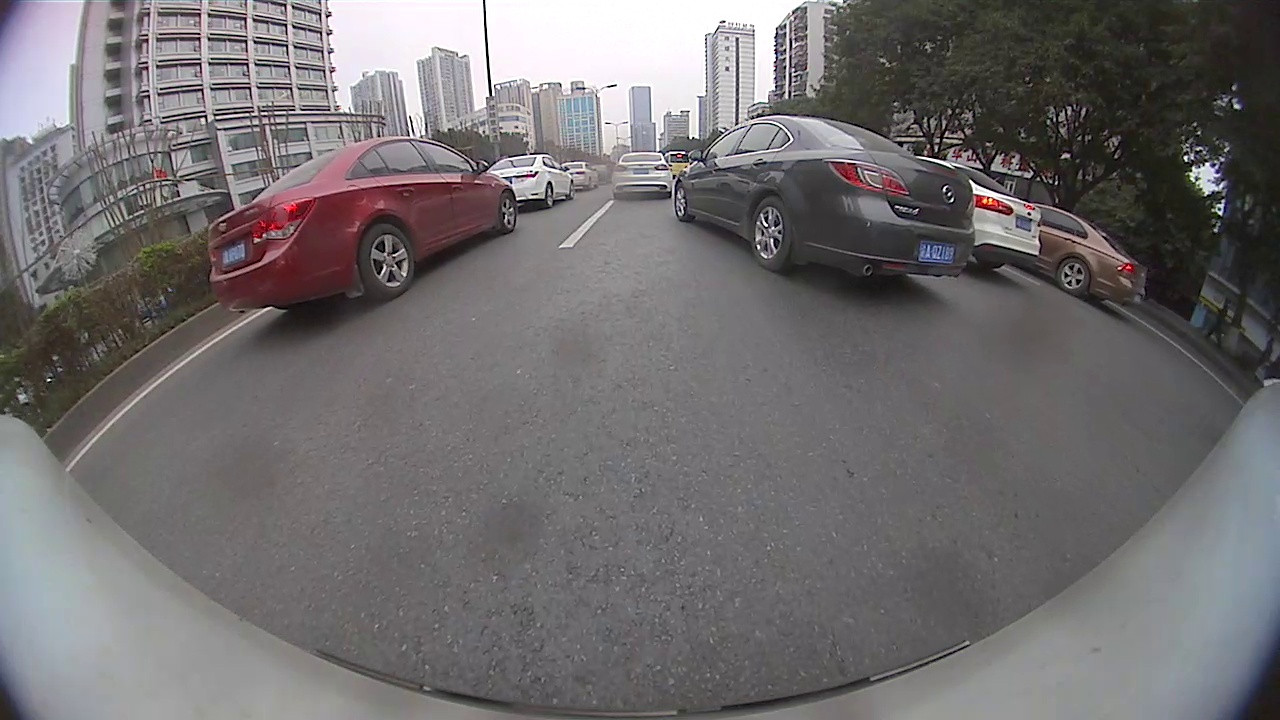car: (201, 134, 522, 312), (673, 110, 978, 282), (923, 158, 1045, 277), (1028, 201, 1147, 306), (488, 153, 577, 206), (612, 150, 675, 200)
front: (673, 181, 694, 224), (498, 189, 517, 233)
rear: (358, 222, 416, 297), (749, 195, 795, 272), (1056, 256, 1090, 297), (544, 184, 555, 210)
